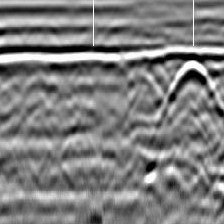Utility: (160, 57, 224, 123)
